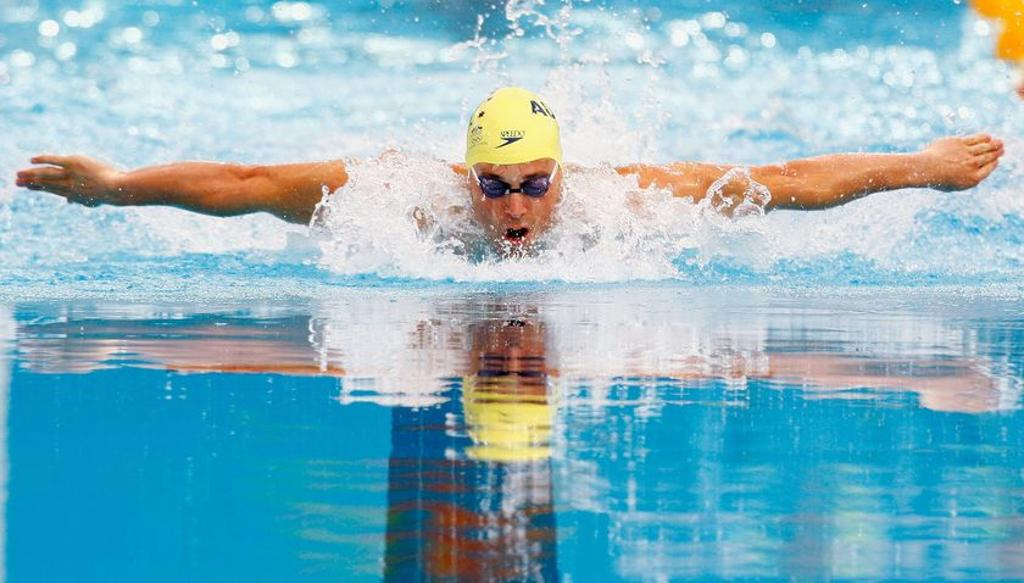face: (470, 150, 562, 254)
